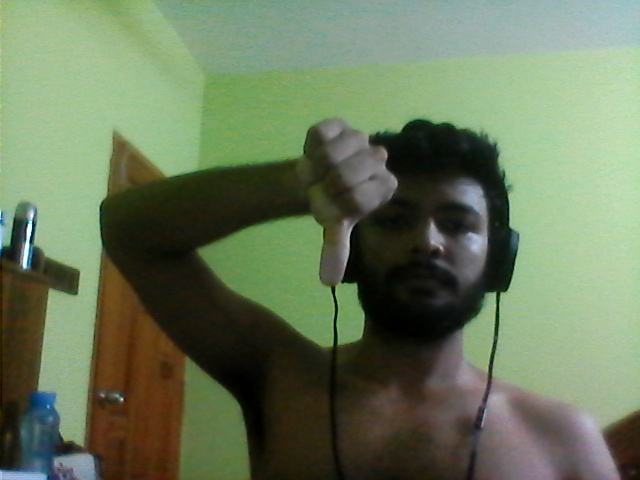No: (286, 112, 393, 300)
